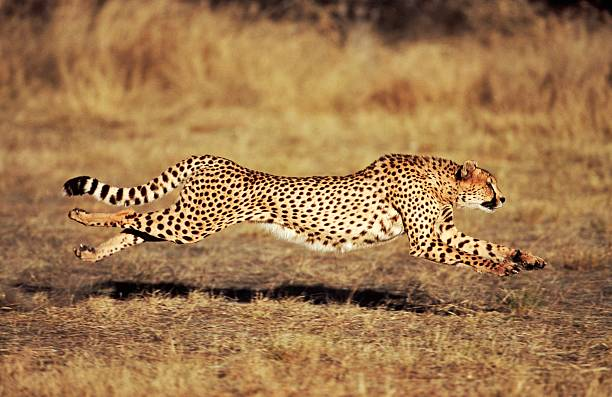cheetah: (459, 152, 513, 219)
